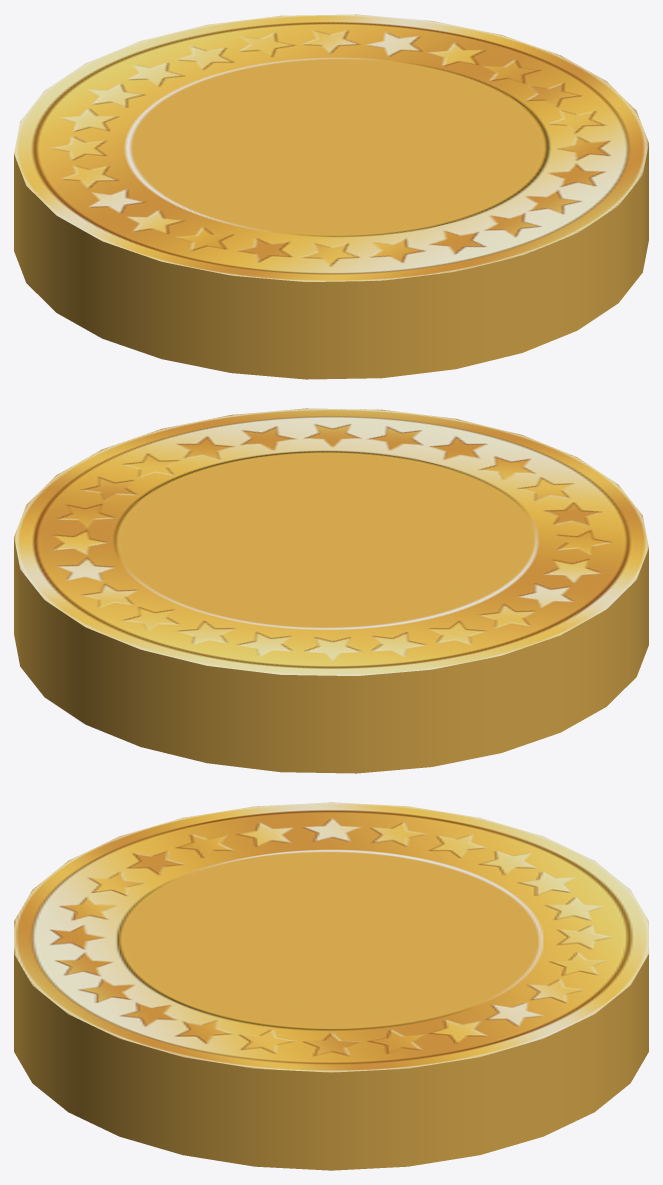
Rendered from coin02.fbx.
3 views of the same model, one above another, from view 1: azimuth 30°, elevation 25°; view 2: azimuth 150°, elevation 25°; view 3: azimuth 270°, elevation 25° (orthographic).
Parts seen in each view (by area): view 1: coin02; view 2: coin02; view 3: coin02.
Boxes of the visible parts, x1,y1,x2,y2 form: coin02: [14, 14, 648, 379]; coin02: [14, 408, 648, 773]; coin02: [14, 802, 648, 1170].
Bounding box in the file's own units: 91.8 × 15.52 × 91.13.
